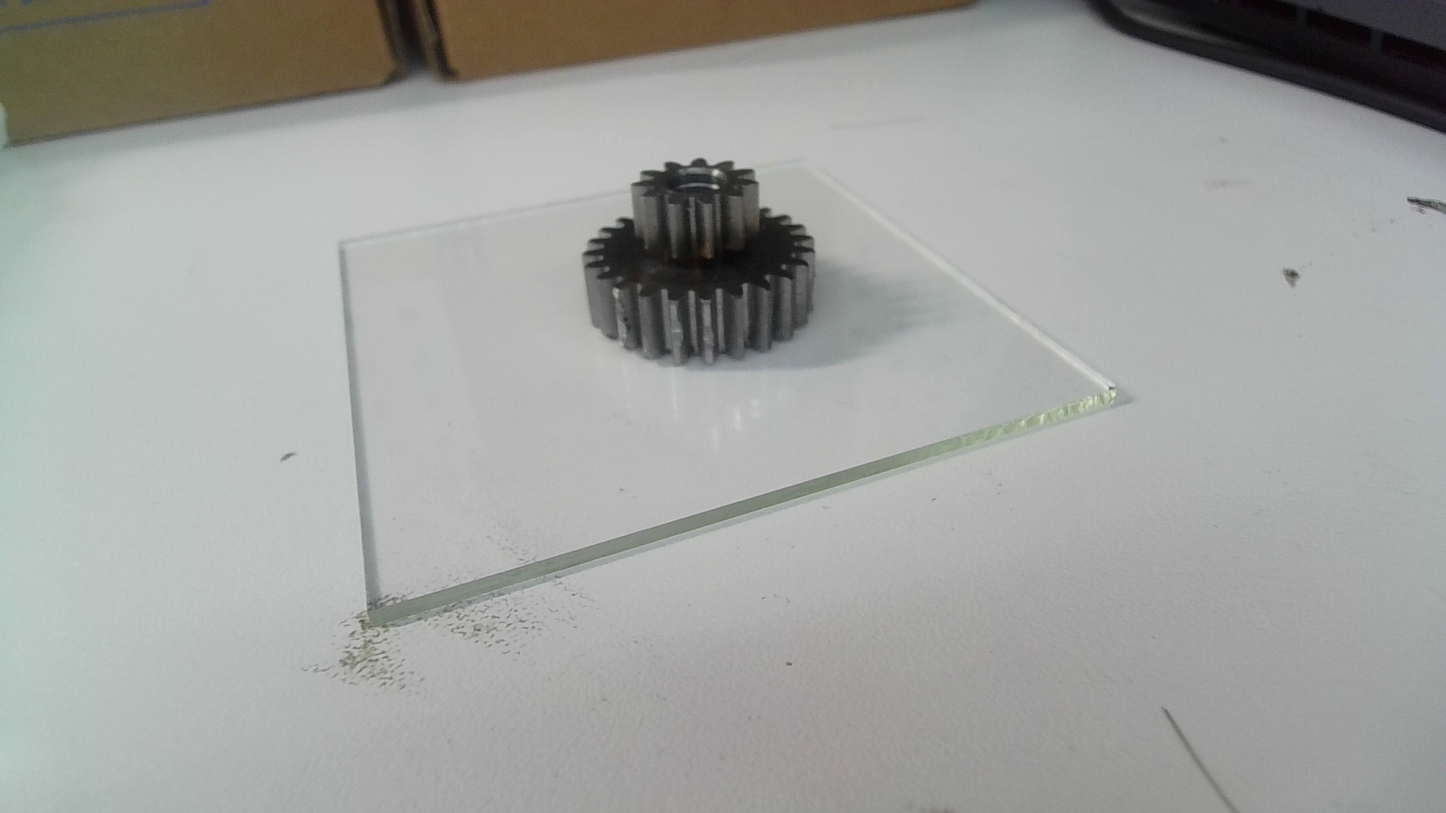gear: (578, 156, 822, 371)
